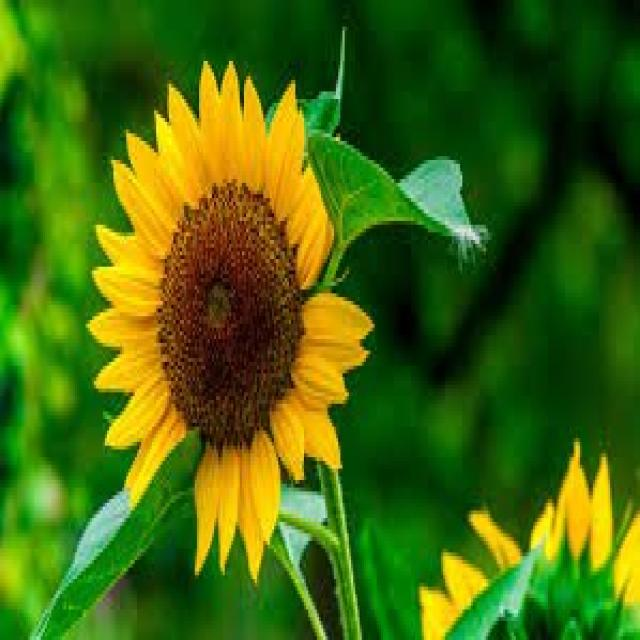sunflower: (84, 40, 380, 592)
